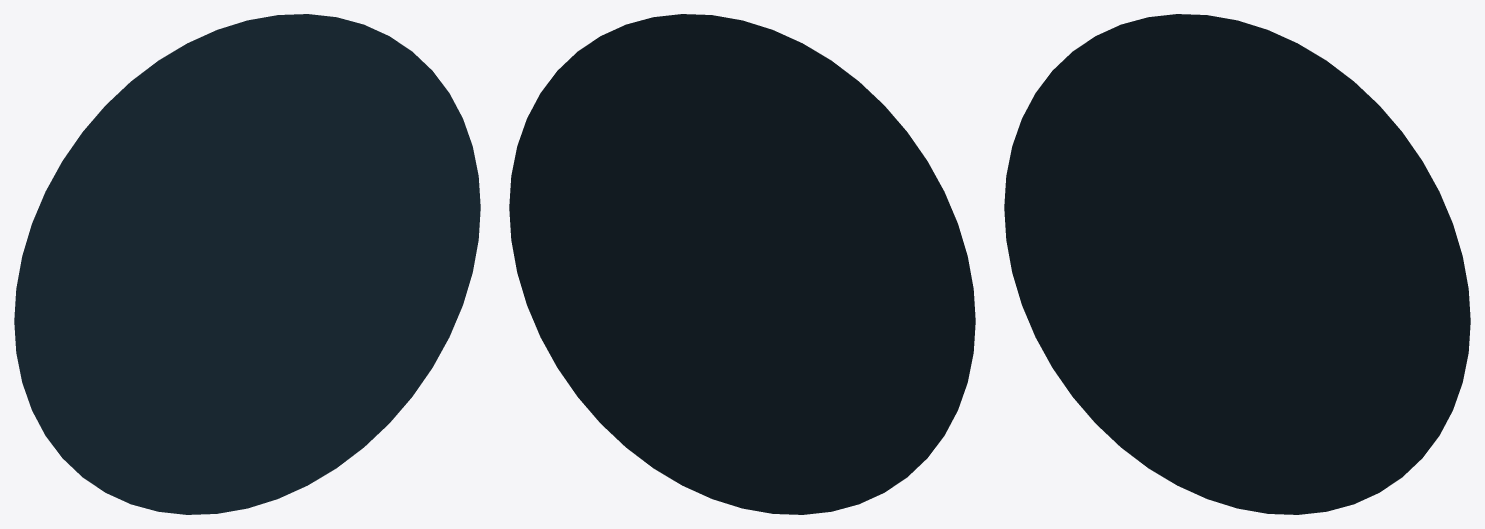
The model's file is portal_surface.obj.
3 views of the same model, side by side, from view 1: azimuth 30°, elevation 25°; view 2: azimuth 150°, elevation 25°; view 3: azimuth 330°, elevation 25° (orthographic).
Parts seen in each view (by area): view 1: animated_opening; view 2: animated_opening; view 3: animated_opening.
Part boxes in pixels (bbox=[...]): animated_opening: bbox=[14, 14, 480, 514]; animated_opening: bbox=[509, 14, 975, 514]; animated_opening: bbox=[1004, 14, 1470, 514].
Size of the model in its own units: 4.68 by 4.68 by 0.
